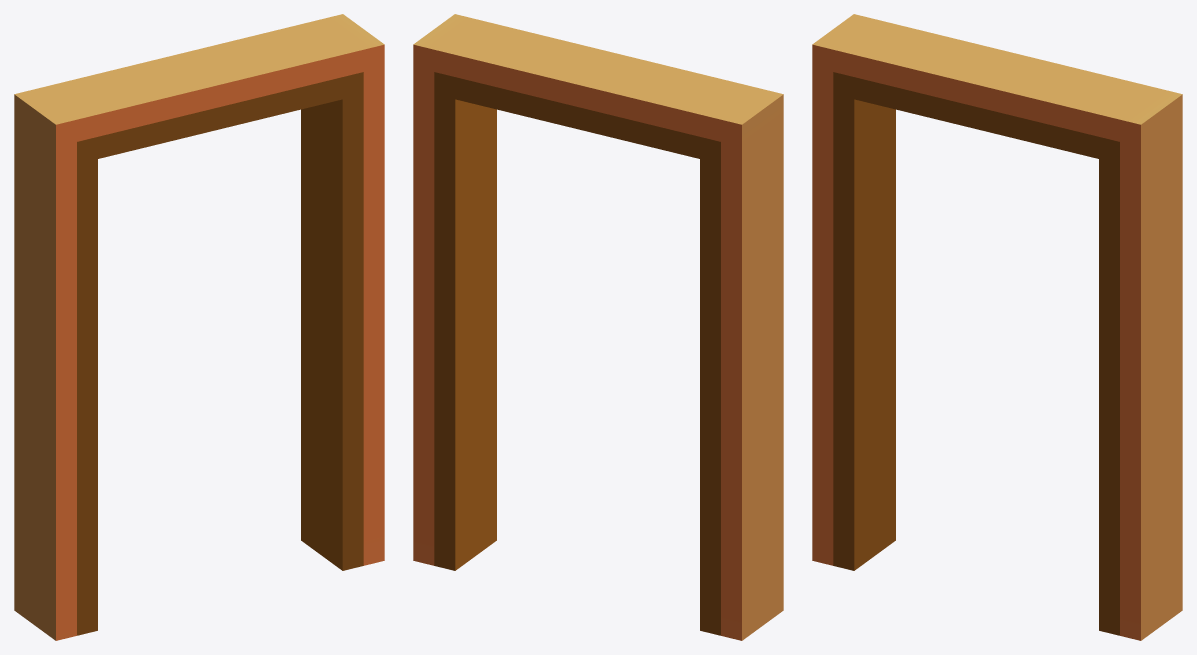
The model's file is door_02.fbx.
3 views of the same model, side by side, from view 1: azimuth 30°, elevation 25°; view 2: azimuth 150°, elevation 25°; view 3: azimuth 330°, elevation 25° (orthographic).
Parts seen in each view (by area): view 1: door_02; view 2: door_02; view 3: door_02.
Part boxes in pixels (x1,y1,x2,y2): door_02: (14, 14, 384, 640); door_02: (413, 14, 783, 640); door_02: (812, 14, 1182, 640).
Bounding box in the file's own units: 100 × 150 × 22.
1 material, 1 textured.
